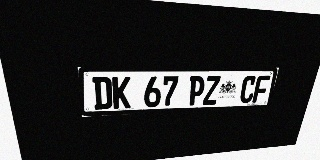6: (144, 76, 162, 107)
7: (161, 76, 179, 107)
C: (239, 76, 257, 103)
D: (92, 77, 112, 110)
F: (252, 75, 271, 103)
K: (112, 77, 131, 109)
P: (187, 76, 206, 106)
Z: (203, 76, 221, 105)
